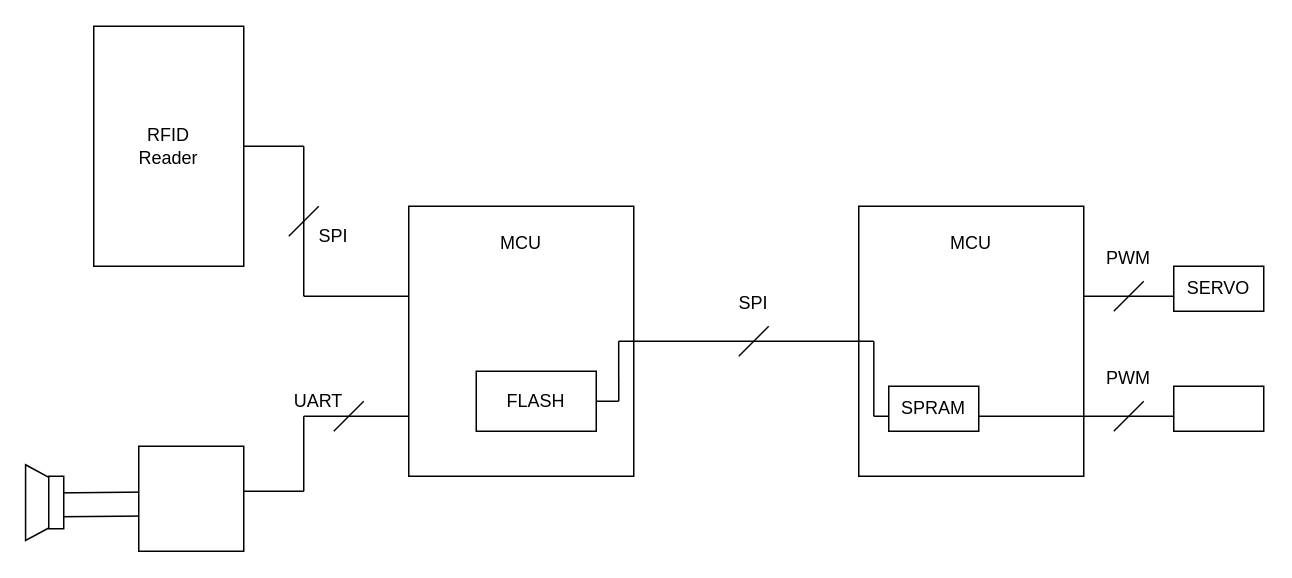
Image size: 1292x578. Some labels were removed from this diagram. The shapes that lost their labels are listed below. From the top down, each one's box as (x1, y1, x2, y2) in pixels, then its label:
(1172, 385, 1264, 431): LED Strip
(137, 445, 244, 551): DFPlayer
